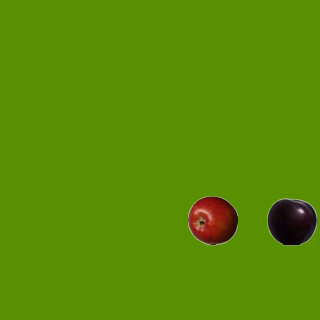Apple Braeburn: (187, 195, 237, 245)
Cherry Wax Black: (266, 196, 316, 246)
